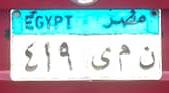1: (40, 41, 52, 74)
4: (23, 41, 37, 74)
9: (60, 41, 75, 70)
meem: (114, 45, 134, 74)
noon: (139, 43, 156, 70)
yaa: (91, 47, 113, 72)
